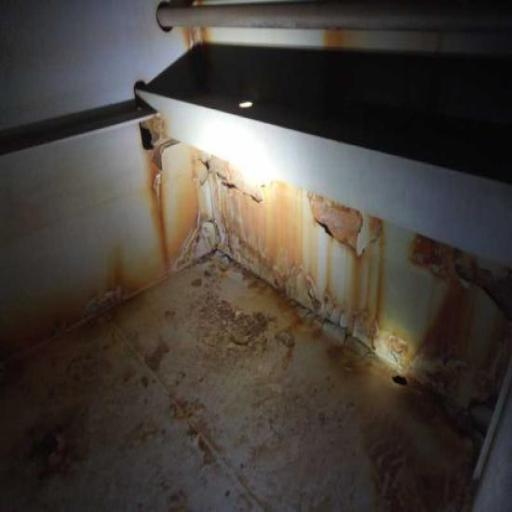Detect-rust-on-metal-surfaces: (142, 116, 511, 511), (2, 250, 146, 366), (24, 403, 101, 469)
